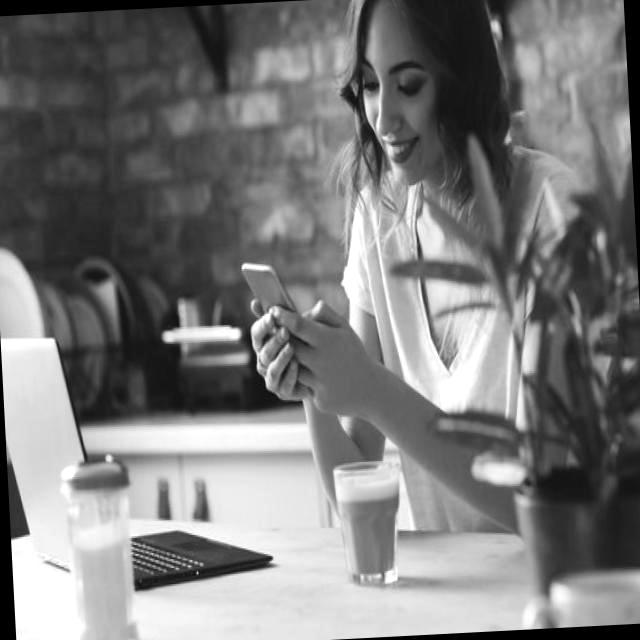phone: (242, 258, 300, 318)
